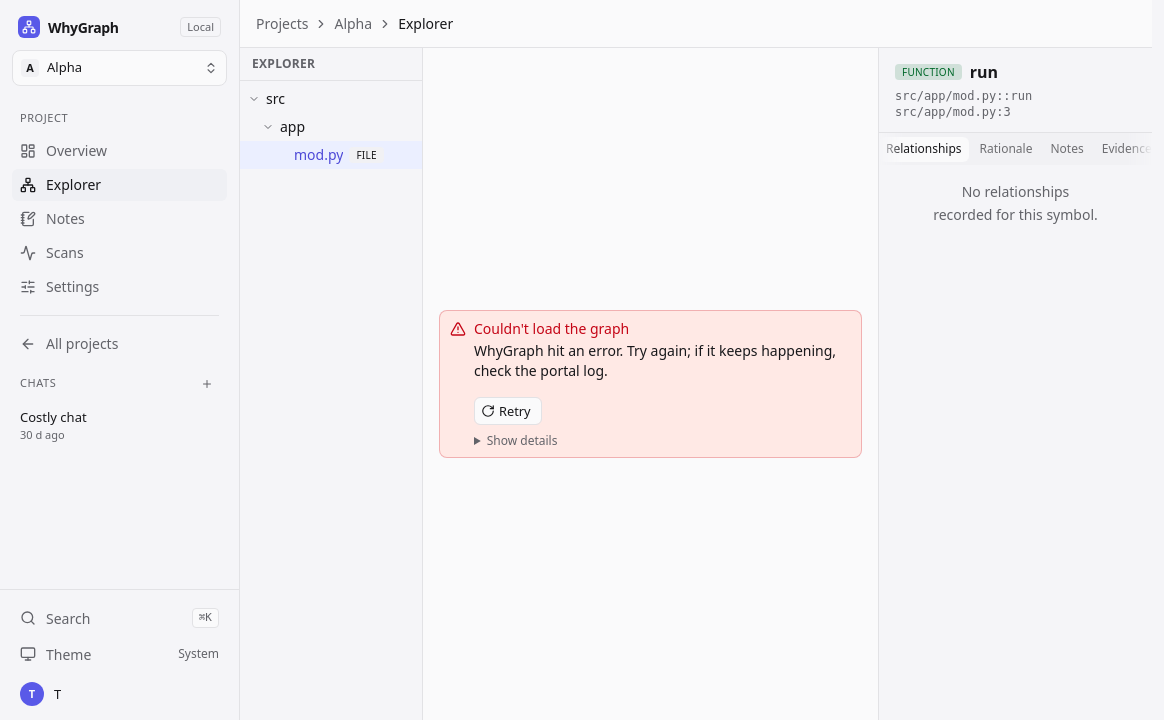
the Rationale tab states › offers Generate when it can
The width and height of the screenshot is (1164, 720).
Click the tab "Rationale" at (1006, 149), box [973,136,1040,162]
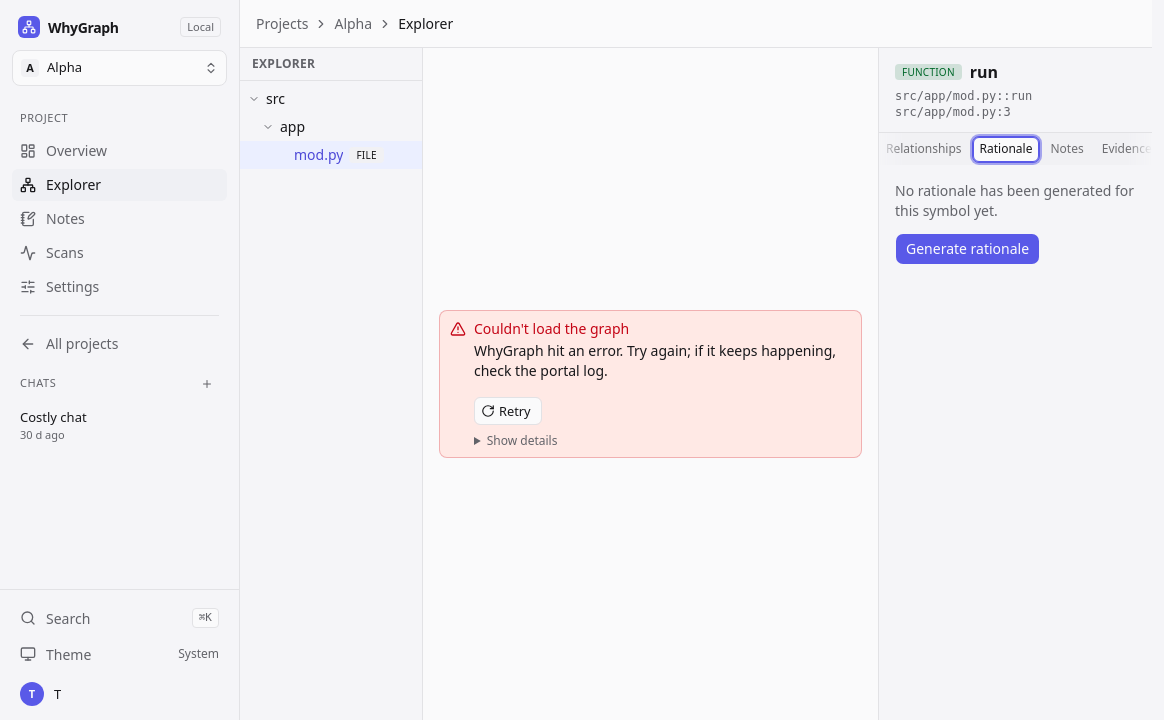
Now the button "Generate rationale" is enabled, box [895,233,1040,265]
